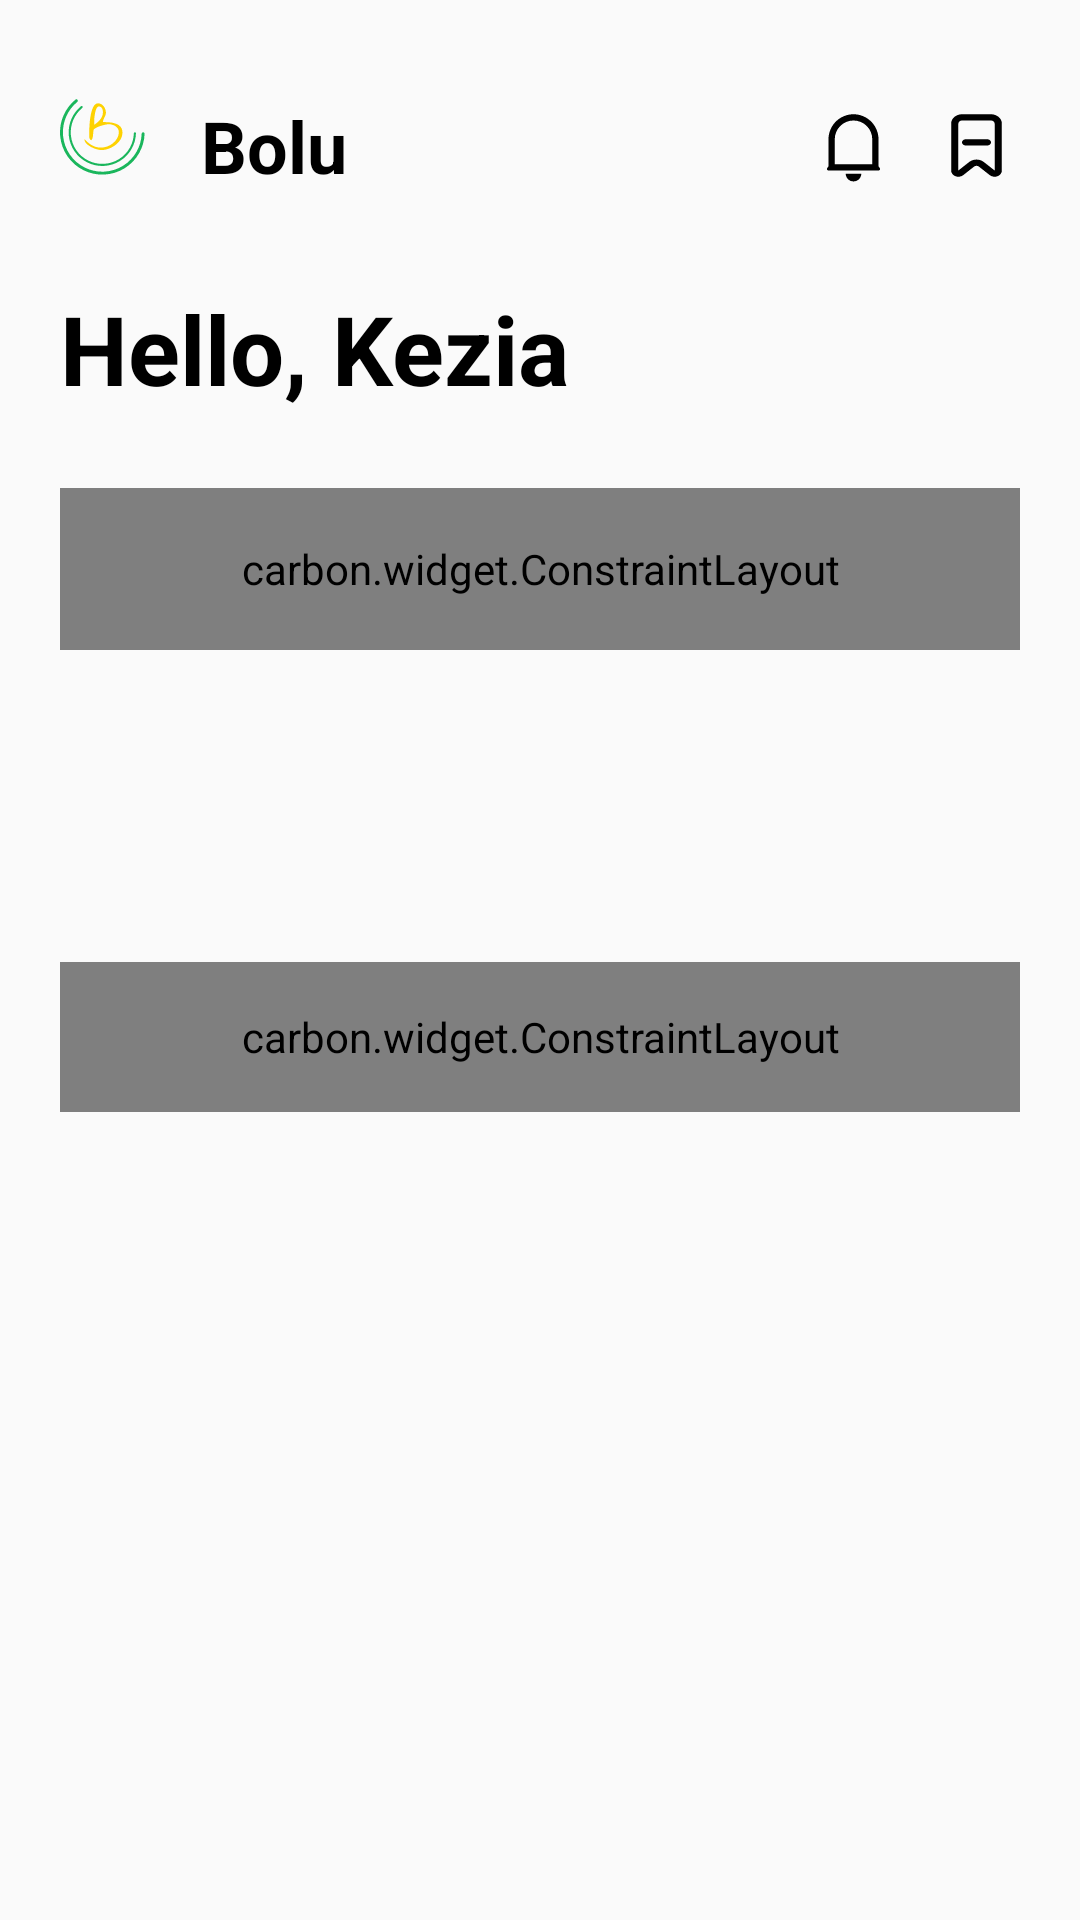

Icon click points for this 1080*1920 phone screenshot, format (x=x, y=y):
bookmark: (x=976, y=145)
notification: (x=853, y=148)
